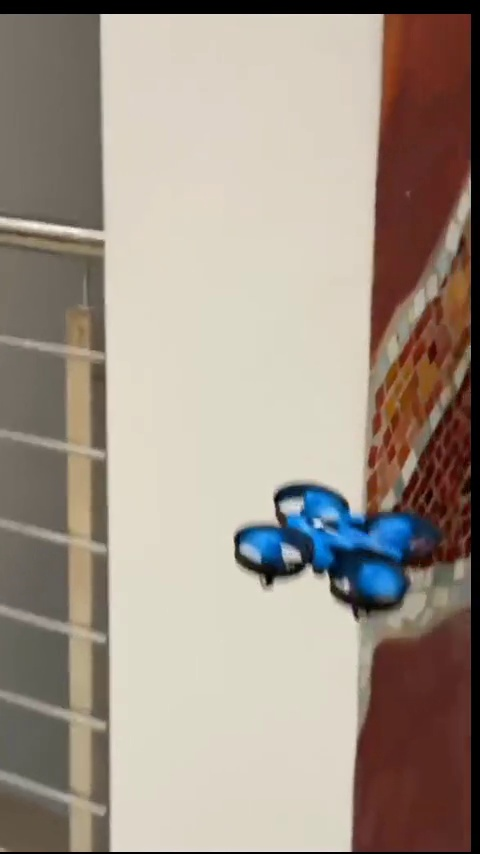drone: (228, 479, 439, 616)
